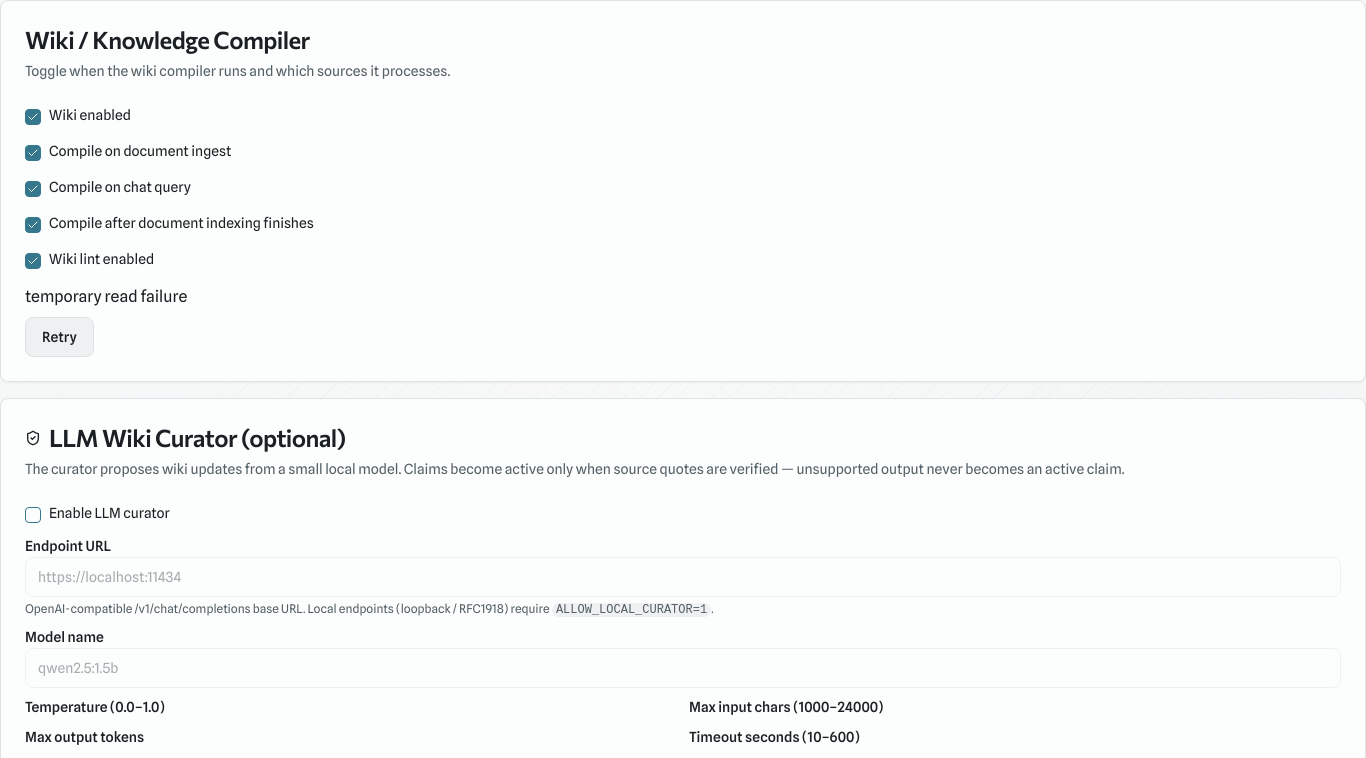
Test: WikiCuratorSettings issue #774 read outcomes › renders the authoritative enrichment result after Retry for true permission
Expected: the message shows "temporary read failure", [25,287,187,306]
Click the button "Retry" at (59, 337), box [25,317,94,357]
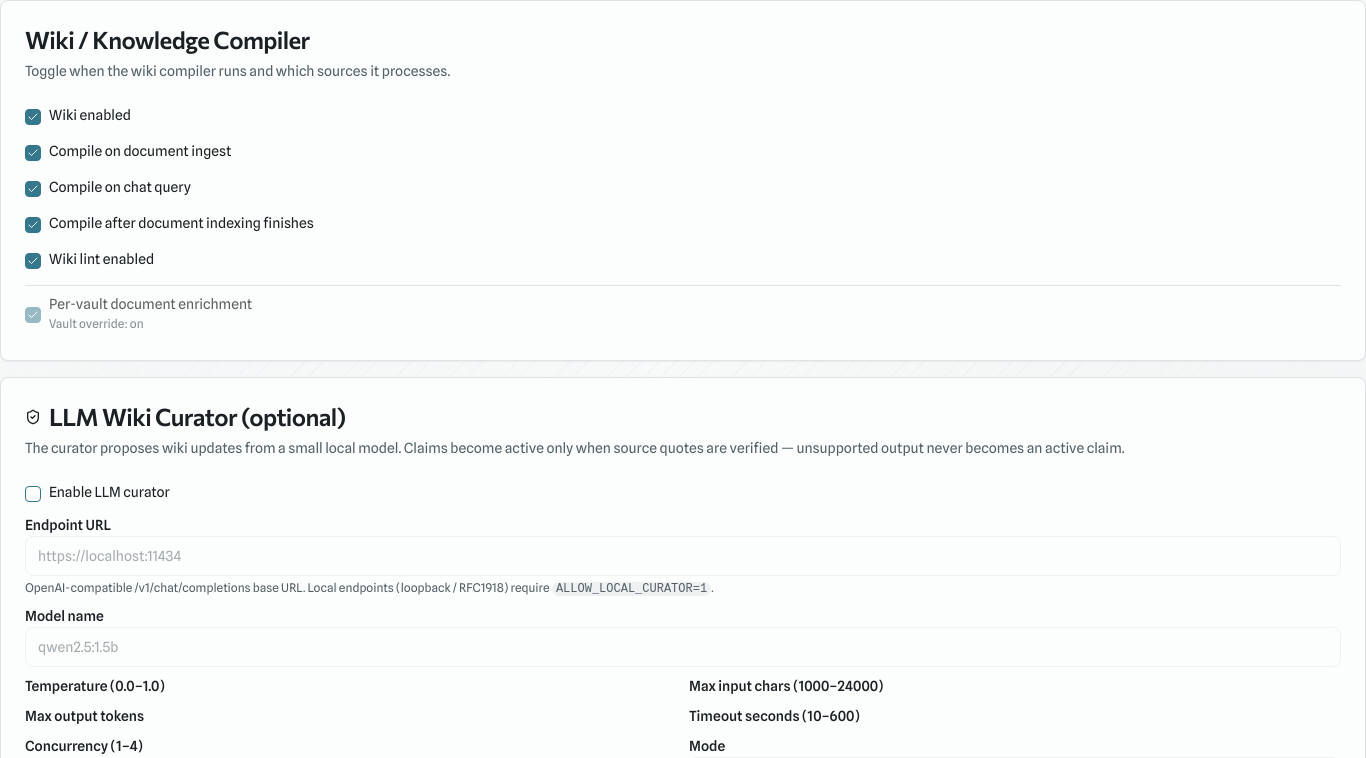
Result: the checkbox named "Per-vault document enrichment" next to "Per-vault document enrichment" is checked at [25,307,41,323]
Result: the checkbox named "Per-vault document enrichment" next to "Per-vault document enrichment" is disabled at [25,307,41,323]
Result: the text "Vault override: on" is shown at [49,316,144,331]
